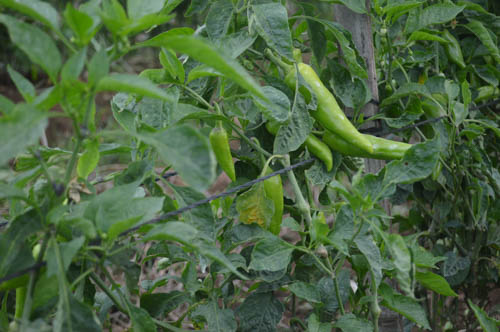ChiliPepper: (292, 66, 374, 152), (324, 126, 423, 161), (267, 116, 334, 167), (257, 171, 288, 228), (211, 128, 237, 179)
